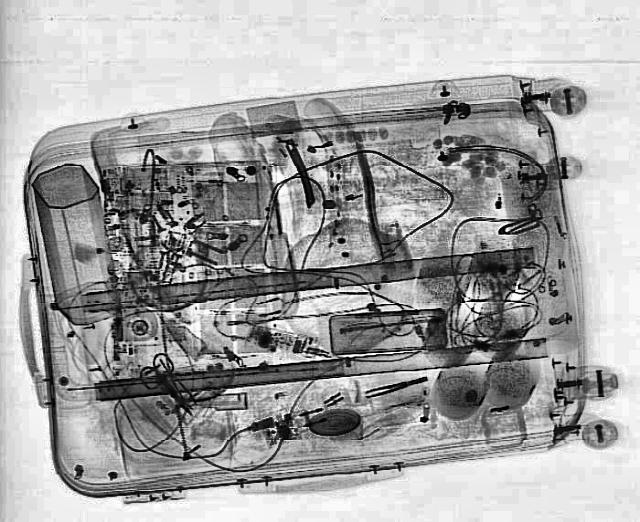Scissors: (130, 351, 208, 421)
